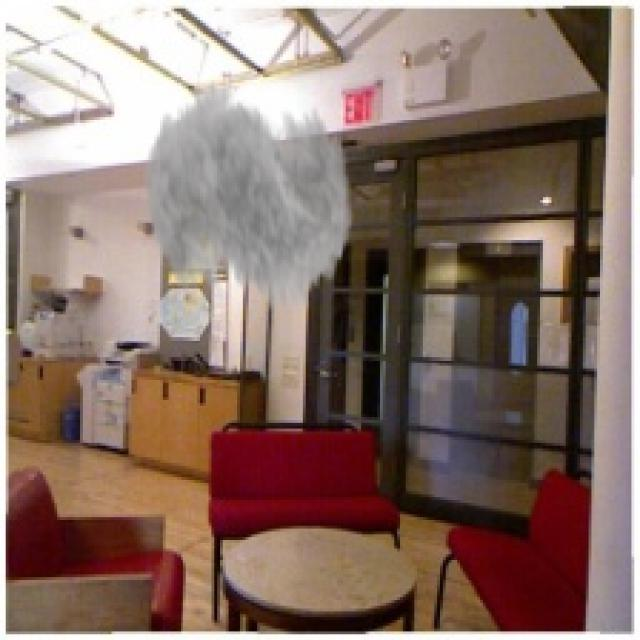smoke: (143, 60, 354, 343)
